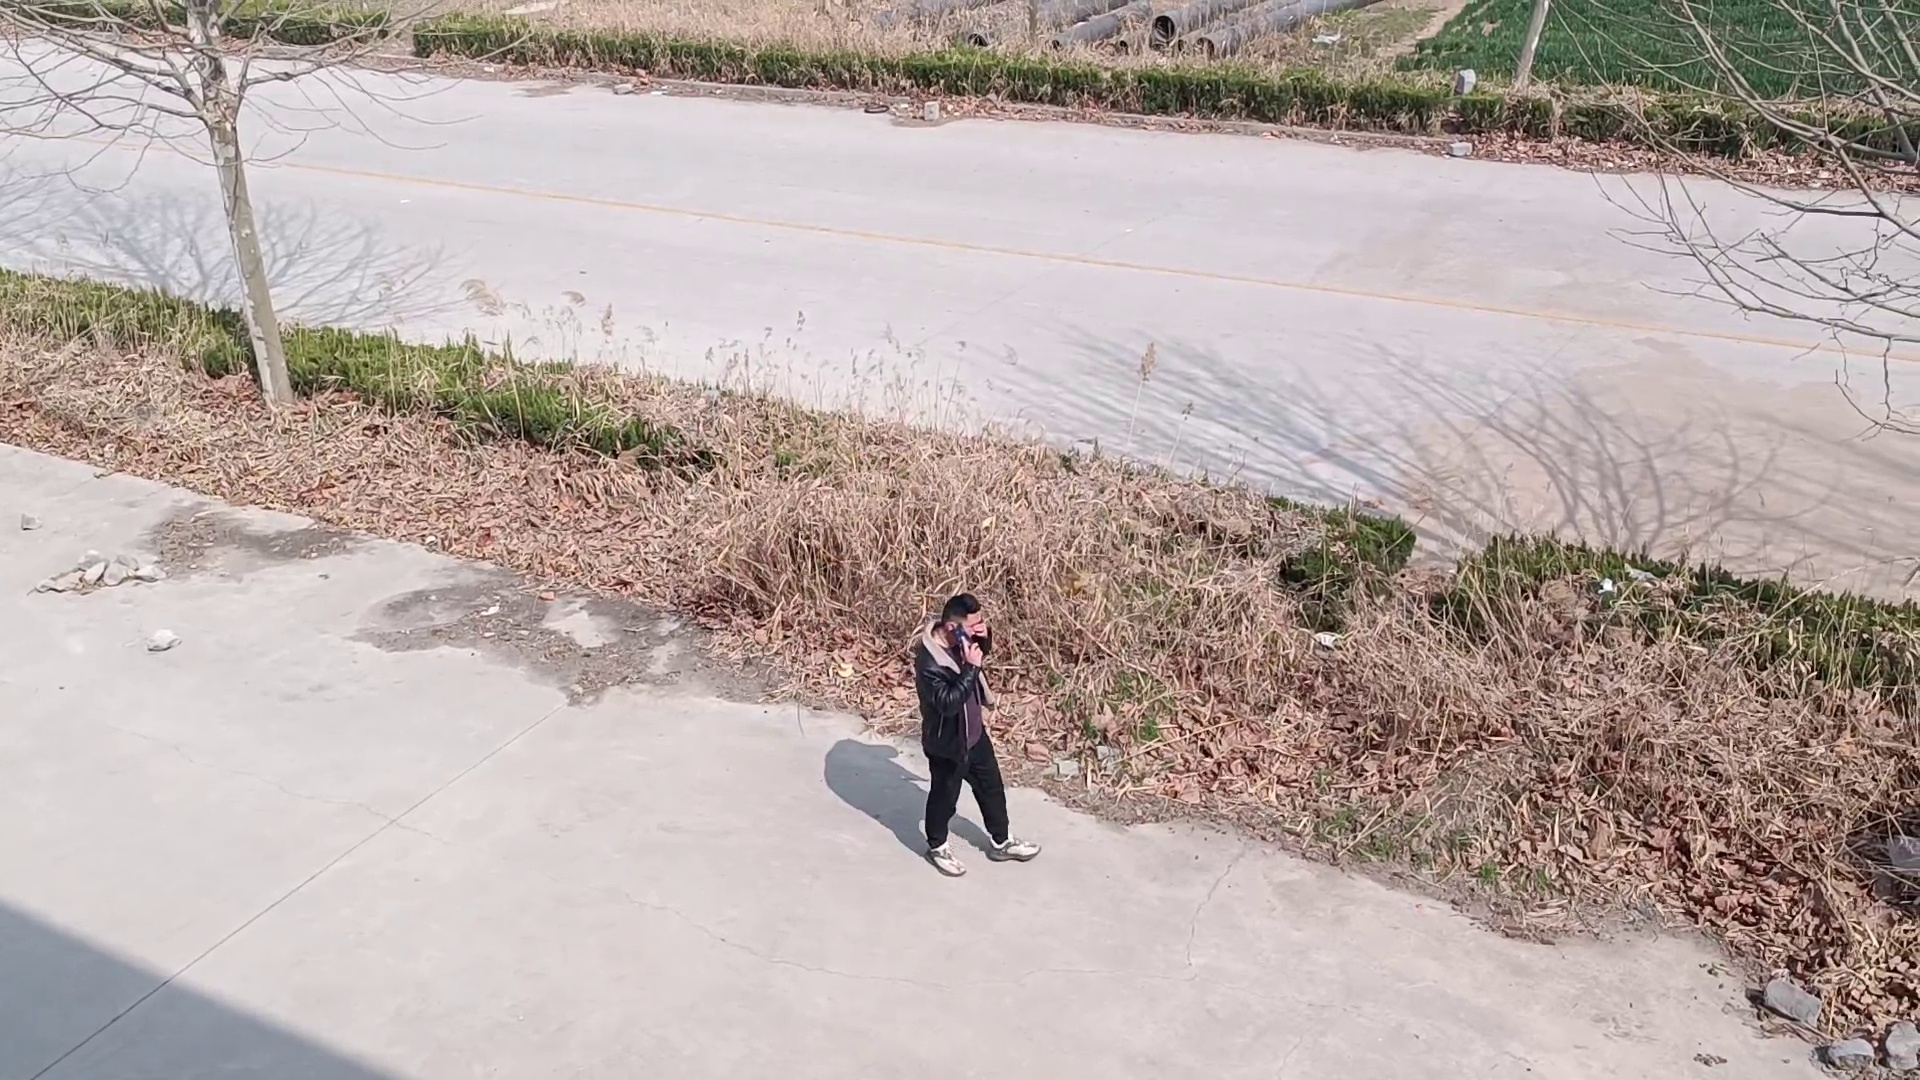phone: (934, 587, 980, 663)
